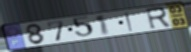1: (95, 14, 111, 37)
5: (71, 15, 97, 39)
7: (46, 19, 66, 43)
8: (25, 23, 47, 46)
I: (123, 11, 135, 33)
R: (144, 6, 173, 31)
